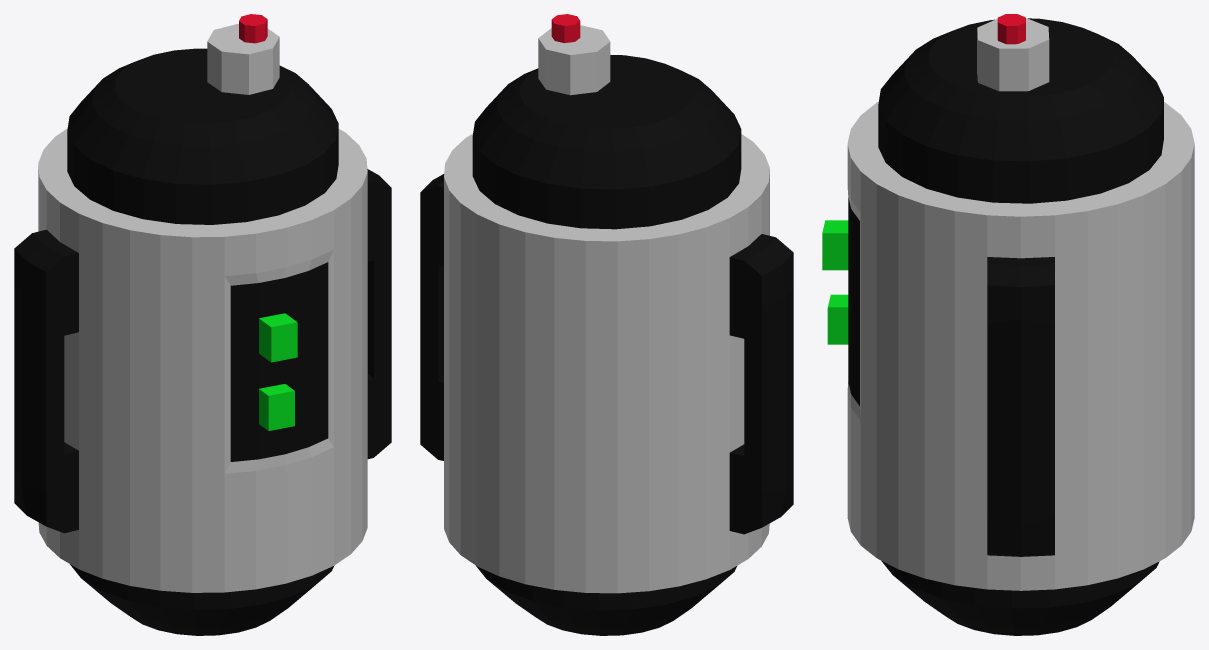
File: battery.fbx
3 views of the same model, side by side, from view 1: azimuth 30°, elevation 25°; view 2: azimuth 150°, elevation 25°; view 3: azimuth 270°, elevation 25° (orthographic). The views are drawn at different scales.
Visible parts, largest first — view 1: Cylinder; view 2: Cylinder; view 3: Cylinder.
Boxes of the visible parts, <box> form: Cylinder: <box>14,14,391,635</box>; Cylinder: <box>420,14,793,635</box>; Cylinder: <box>822,14,1194,635</box>.
Bounding box in the file's own units: 254 × 384 × 215.
